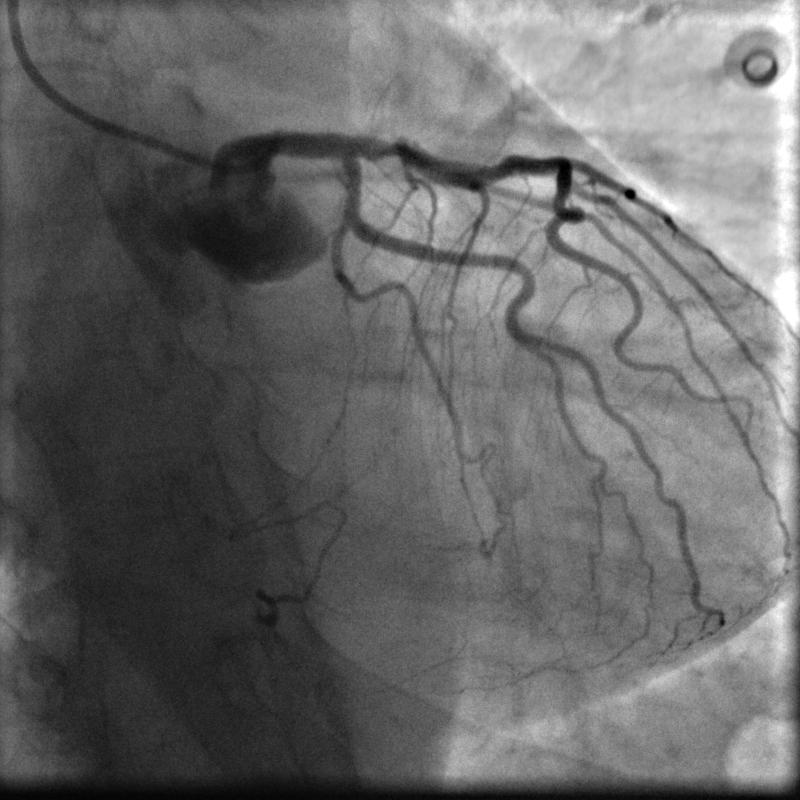Stenosis: (369, 133, 406, 165)
